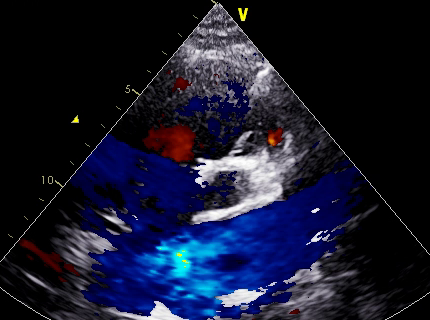TR: (118, 142, 203, 250)
